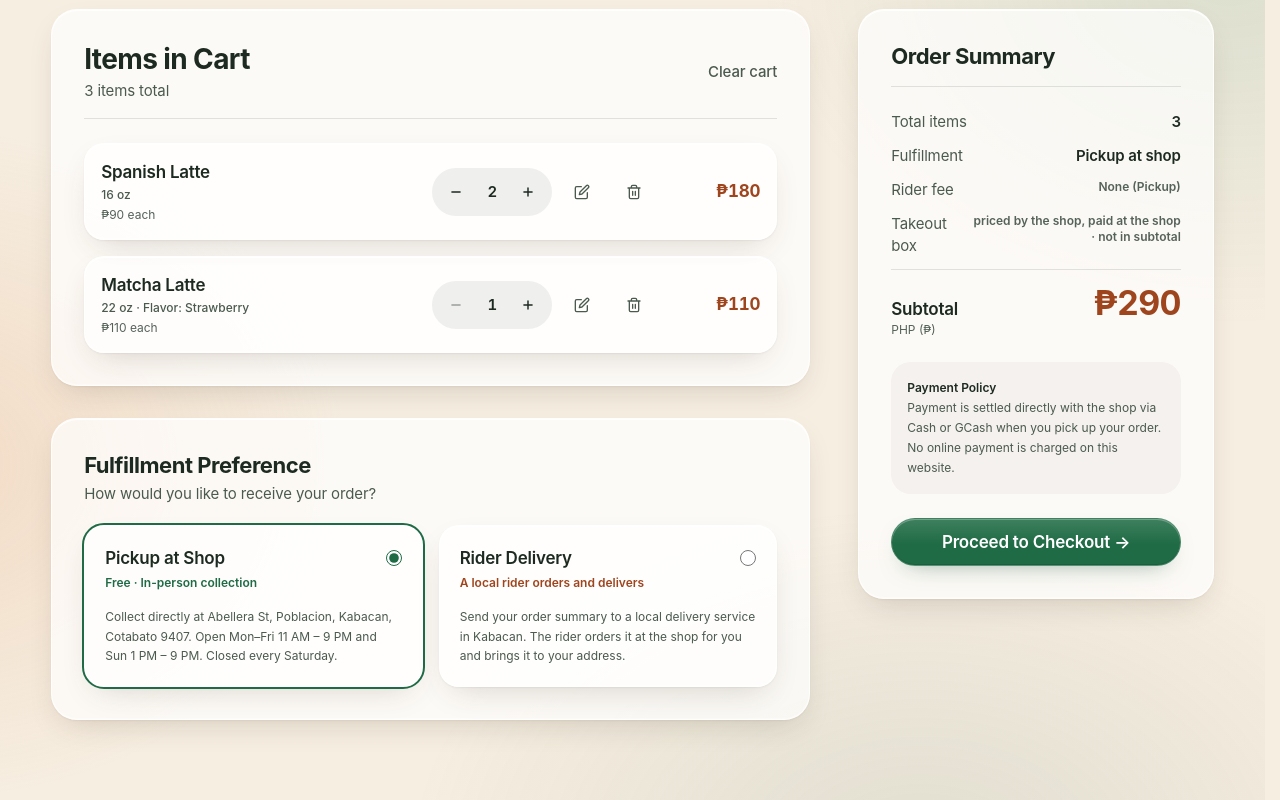
Test case: CartPageView Component › renders cart lines, fulfillment selector, and order summary
(page scrolled)
Expected: the heading "Spanish Latte" is shown, [101,160,210,185]
Expected: the heading "Matcha Latte" is shown, [101,273,205,298]
Switch to rider delivery
Click the radio button labelled "Rider Delivery". click: (748, 558)
box: [740,550,756,566]
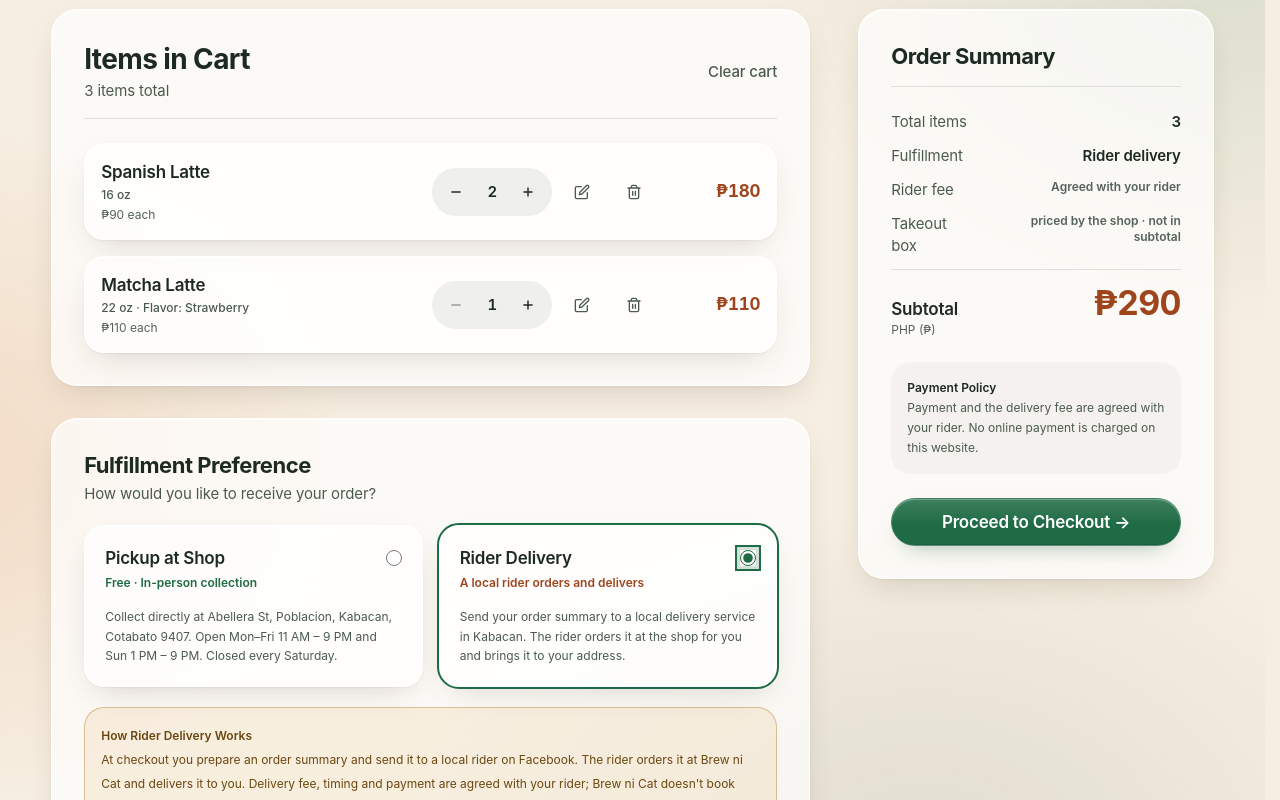
Expected: the radio button labelled "Rider Delivery" is checked, [740,550,756,566]
Expected: the text "How Rider Delivery Works" is shown, [101,728,252,743]
Expected: the text "Agreed with your rider" is shown, [1051,179,1181,201]
